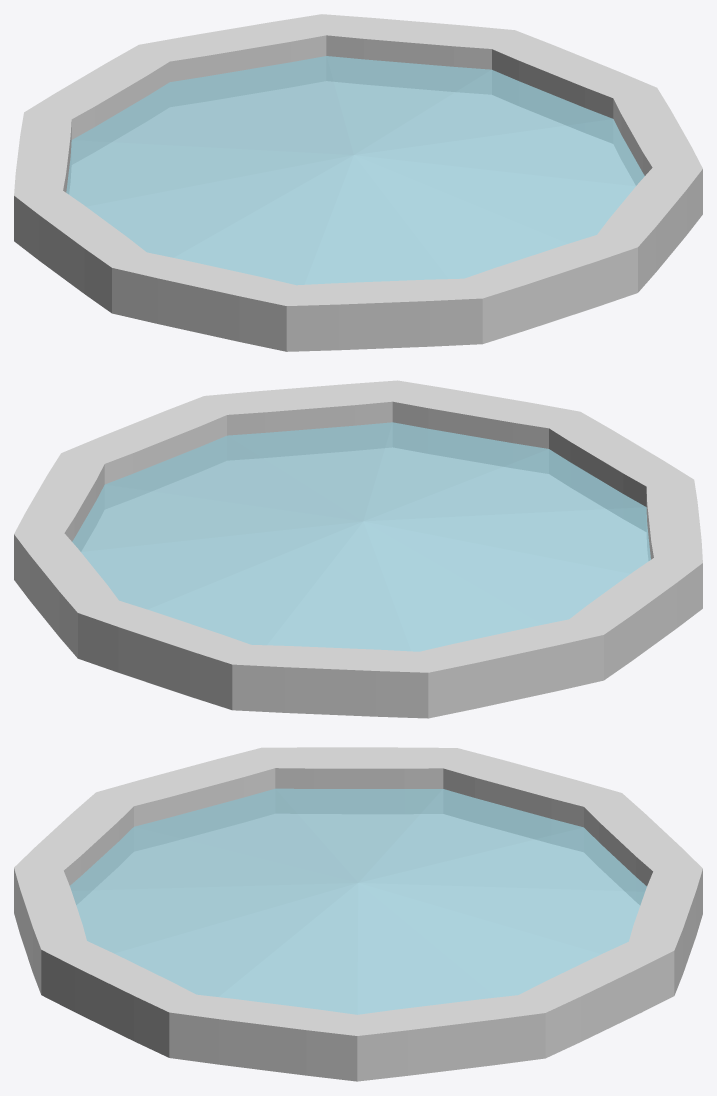
The model's file is Okno_swiatyni.fbx.
3 renders of one model, top to bottom at view 1: azimuth 30°, elevation 25°; view 2: azimuth 150°, elevation 25°; view 3: azimuth 270°, elevation 25°, orthographic.
Visible parts, largest first — view 1: Kopuła1.006, Kopuła1.009; view 2: Kopuła1.006, Kopuła1.009; view 3: Kopuła1.006, Kopuła1.009.
Boxes of the visible parts, left/top/right/bottom form: Kopuła1.006: left=14, top=14, right=702, bottom=351; Kopuła1.009: left=66, top=56, right=644, bottom=285; Kopuła1.006: left=14, top=380, right=702, bottom=718; Kopuła1.009: left=72, top=422, right=650, bottom=651; Kopuła1.006: left=14, top=747, right=702, bottom=1081; Kopuła1.009: left=70, top=788, right=646, bottom=1014.
Bounding box in the file's own units: 3.73 × 0.3107 × 3.76.
